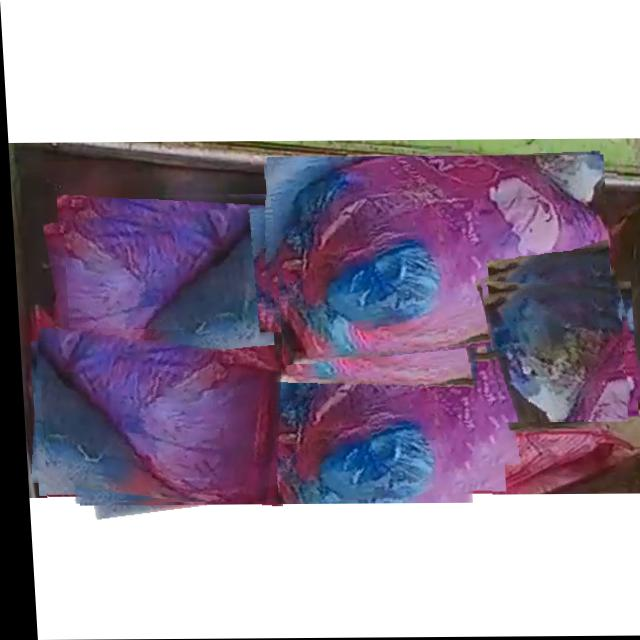other_trashbag: (68, 199, 477, 504), (276, 156, 606, 364), (34, 329, 279, 502), (486, 285, 618, 422)
